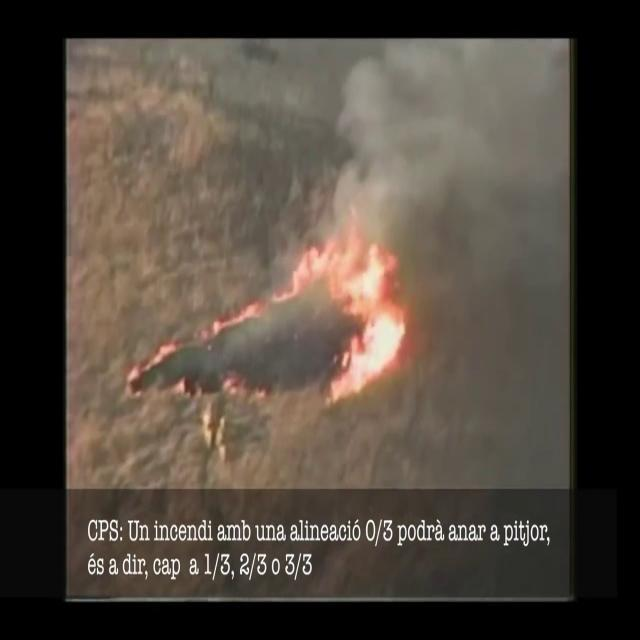Fire: (238, 222, 414, 398)
Smoke: (350, 39, 568, 474)
